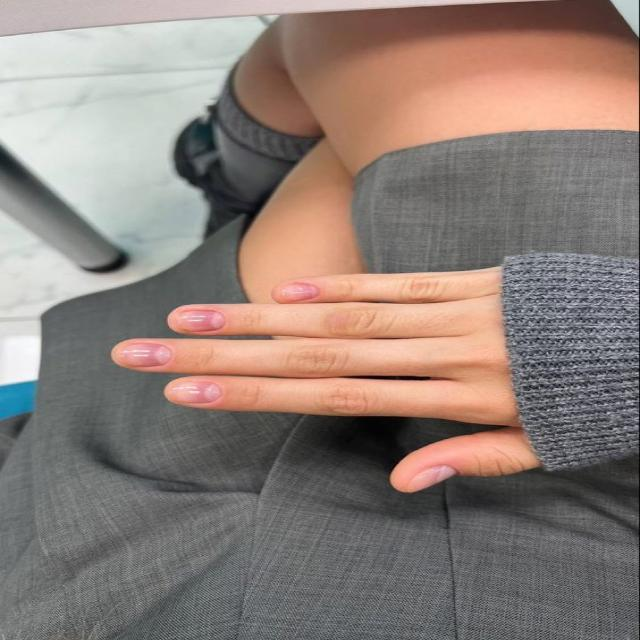Fingernail: (407, 466, 456, 491), (168, 381, 220, 403), (118, 345, 170, 366), (176, 311, 223, 331), (277, 282, 316, 301)
